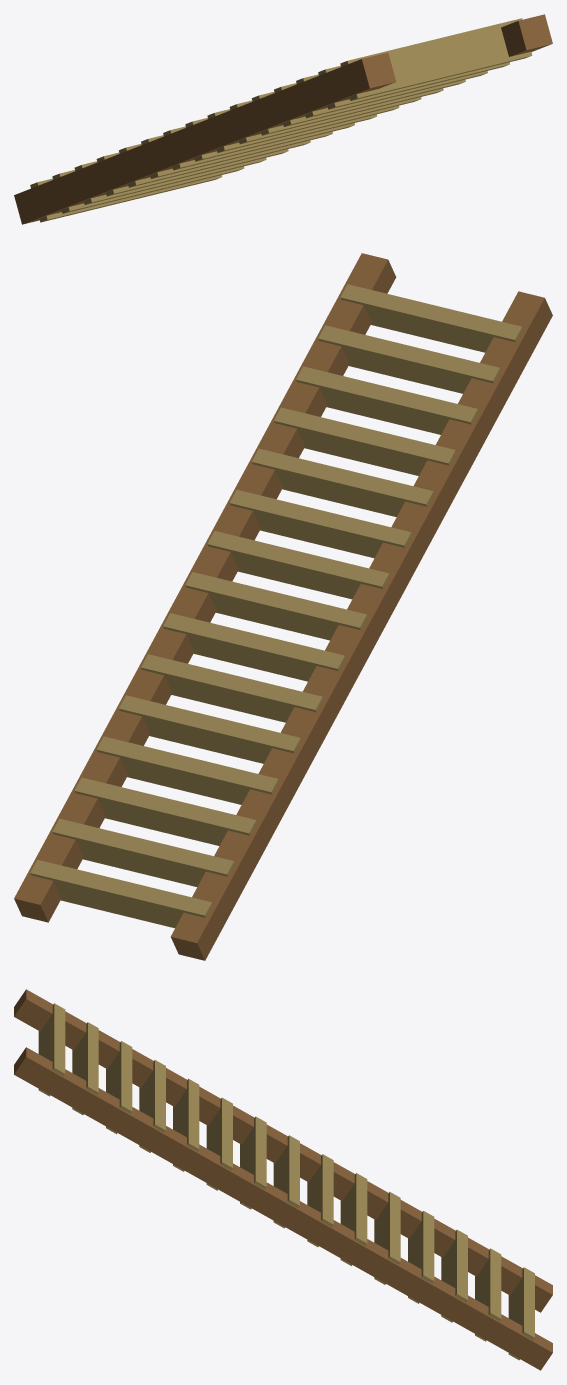
Rendered from ladder_3.1.glb.
The picture shows the model from 3 angles, top to bottom: view 1: azimuth 30°, elevation 25°; view 2: azimuth 150°, elevation 25°; view 3: azimuth 270°, elevation 25°; orthographic projection. The views are drawn at different scales.
Visible parts, largest first — view 1: part_0, part_16, part_1, part_4, part_9, part_11, part_6, part_2, part_3, part_12, part_15, part_5 (+5 smaller); view 2: part_0, part_1, part_4, part_5, part_9, part_10, part_13, part_3, part_8, part_11, part_14, part_2 (+5 smaller); view 3: part_1, part_0, part_7, part_16, part_5, part_3, part_14, part_10, part_12, part_8, part_6, part_15 (+5 smaller).
Part boxes in pixels (x1,y1,x2,y2): part_0: [14, 52, 396, 224]; part_16: [340, 18, 532, 100]; part_1: [501, 14, 552, 56]; part_4: [74, 158, 266, 204]; part_9: [185, 114, 376, 161]; part_11: [229, 97, 421, 144]; part_6: [119, 140, 310, 187]; part_2: [30, 175, 221, 222]; part_3: [52, 166, 244, 213]; part_12: [251, 88, 443, 135]; part_15: [318, 62, 509, 109]; part_5: [96, 149, 288, 196]; part_0: [170, 291, 552, 960]; part_1: [14, 253, 396, 922]; part_4: [74, 777, 257, 845]; part_5: [96, 736, 279, 804]; part_9: [185, 572, 367, 640]; part_10: [207, 531, 390, 599]; part_13: [274, 407, 456, 475]; part_3: [52, 818, 234, 886]; part_8: [163, 613, 345, 681]; part_11: [229, 490, 412, 558]; part_14: [296, 366, 478, 434]; part_2: [30, 859, 212, 928]; part_1: [14, 1047, 552, 1370]; part_0: [14, 989, 552, 1312]; part_7: [340, 1173, 367, 1265]; part_16: [38, 1003, 65, 1096]; part_5: [408, 1211, 434, 1303]; part_3: [475, 1248, 501, 1341]; part_14: [106, 1041, 132, 1134]; part_10: [240, 1116, 266, 1209]; part_12: [173, 1078, 199, 1171]; part_8: [307, 1154, 333, 1246]; part_6: [374, 1192, 400, 1284]; part_15: [72, 1022, 98, 1114].
Size of the model in its own units: 1.52 by 3.29 by 5.12.
